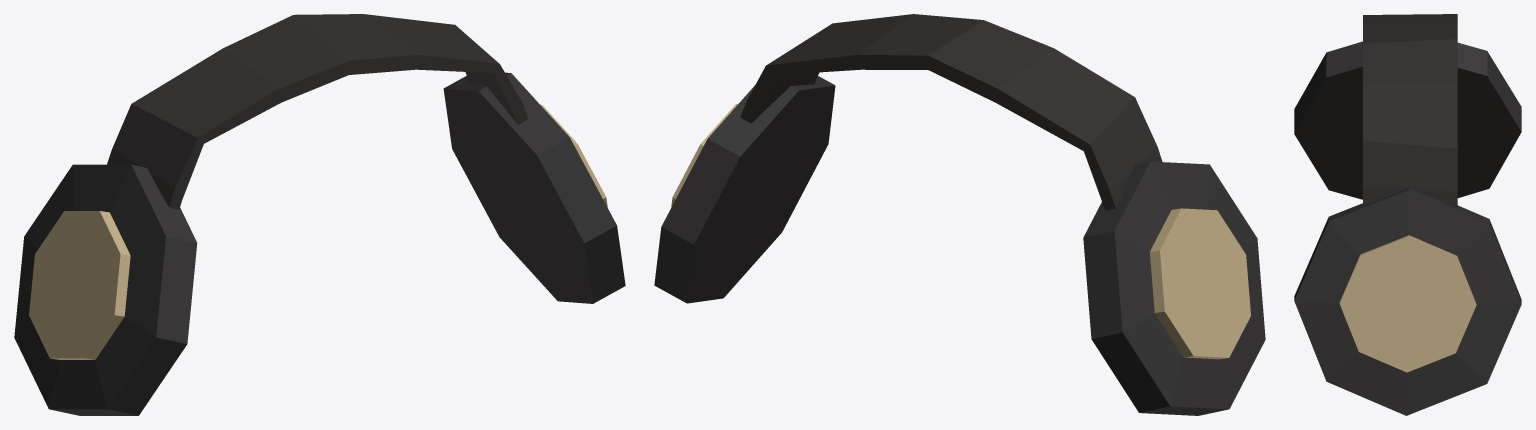
The model's file is Hat_Capy_Headphones.fbx.
The picture shows the model from 3 angles, left to right: view 1: azimuth 30°, elevation 25°; view 2: azimuth 150°, elevation 25°; view 3: azimuth 270°, elevation 25°; orthographic projection. The views are drawn at different scales.
Visible parts, largest first — view 1: Hat_Headphones; view 2: Hat_Headphones; view 3: Hat_Headphones.
Part boxes in pixels (x1,y1,x2,y2): Hat_Headphones: [14, 14, 625, 415]; Hat_Headphones: [654, 14, 1265, 415]; Hat_Headphones: [1294, 14, 1521, 415].
Bounding box in the file's own units: 42.8 × 24.36 × 18.31.
